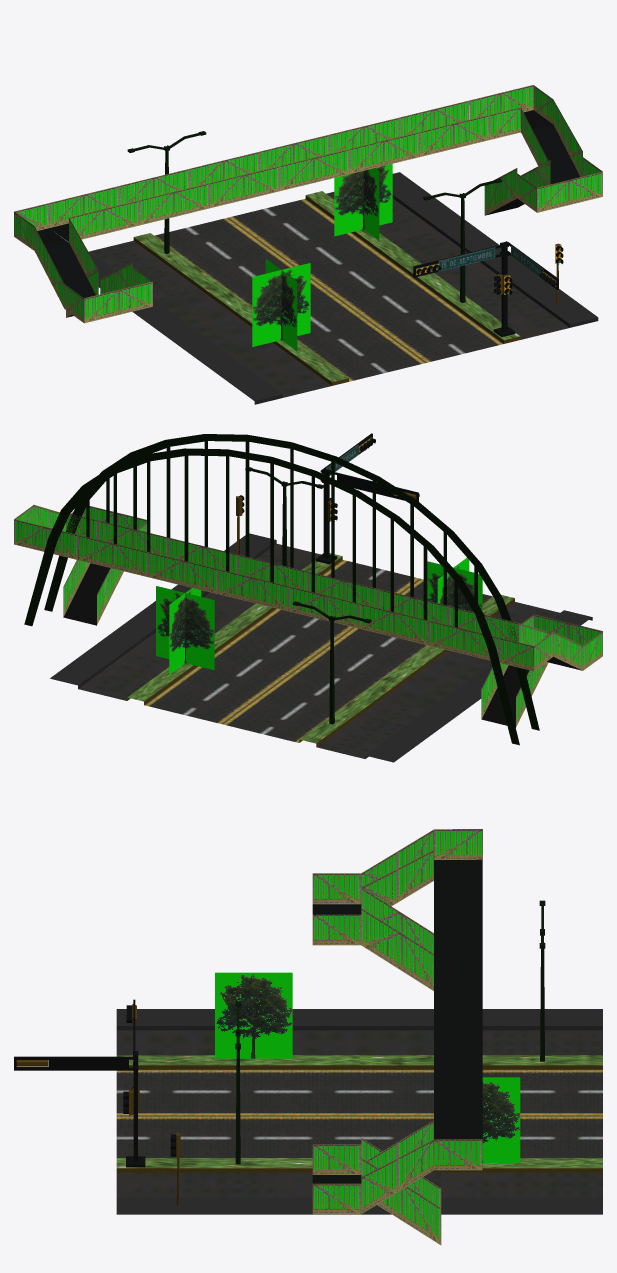
Rendered from 05_bridge.obj.
3 views of the same model, one above another, from view 1: azimuth 30°, elevation 25°; view 2: azimuth 150°, elevation 25°; view 3: azimuth 270°, elevation 25° (orthographic). The views are drawn at different scales.
Visible parts, largest first — view 1: 05_bridge_Plane.013; view 2: 05_bridge_Plane.013; view 3: 05_bridge_Plane.013.
Part boxes in pixels (box(x1,y1,x2,y2)): 05_bridge_Plane.013: box(14, 85, 602, 404); 05_bridge_Plane.013: box(14, 433, 602, 762); 05_bridge_Plane.013: box(14, 829, 602, 1245).
Bounding box in the file's own units: 2.42 × 1.03 × 1.94.
